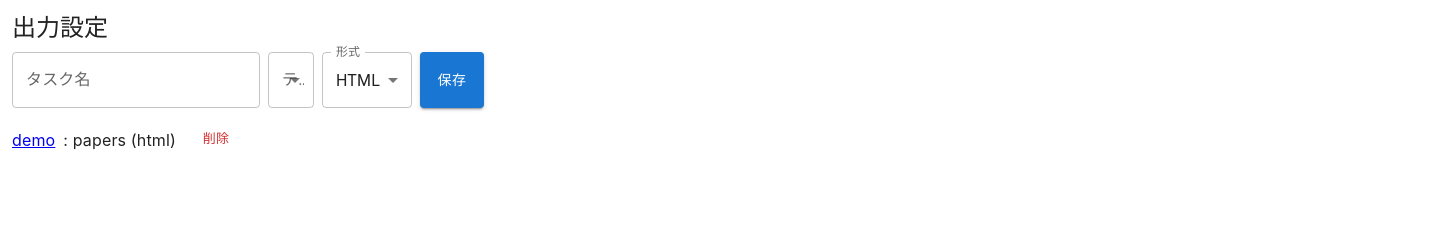
Test: rejects duplicate task creation without submitting empty code over the existing task
Type "demo" into the field labelled "タスク名" at (136, 80), box [12,52,260,108]
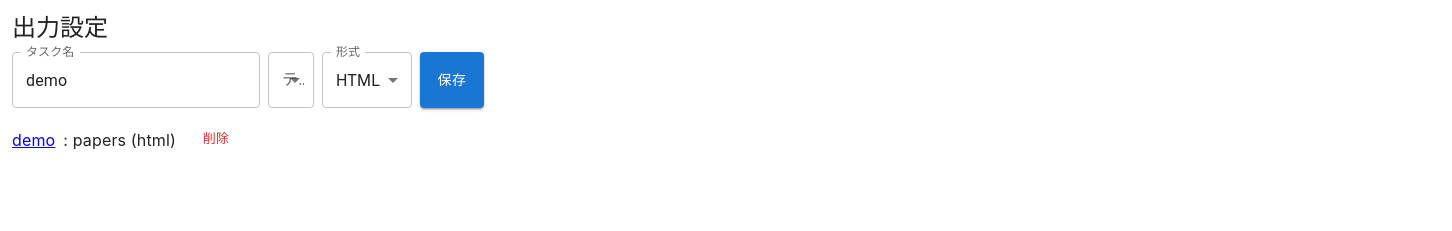
Click the button "保存" at (452, 80), box [420,52,484,108]
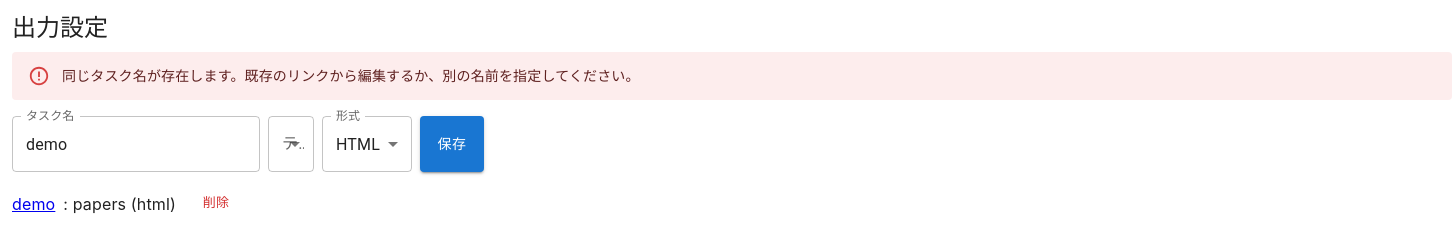
expect the text "同じタスク名が存在します。既存のリンクから編集するか、別の名前を指定してください。" is shown: met, box [62,68,640,84]
